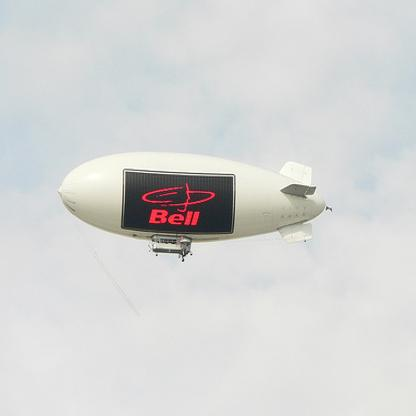Airship: (56, 153, 337, 257)
